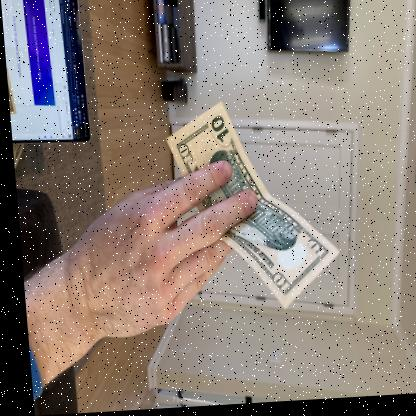ten-back: (165, 104, 340, 309)
